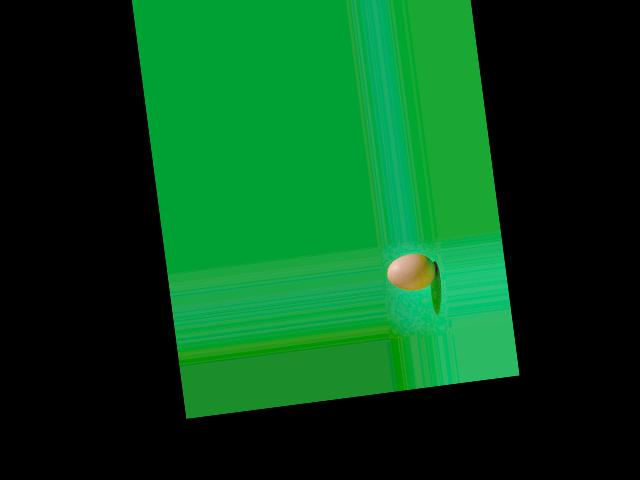egg: (385, 251, 438, 293)
